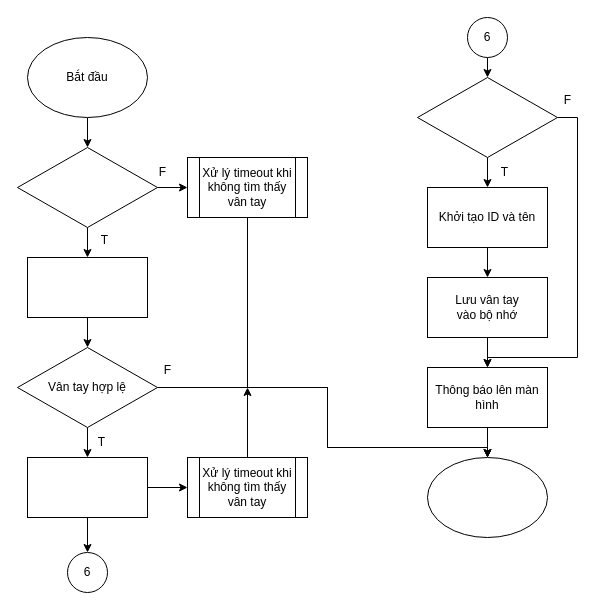
Image size: 603x610. Some labels were removed from this diagram. Here are the shapes that lost their labels. From the top down, the box of each, then its label:
(416, 76, 558, 158): Cả 2 vân tay trùng khớp
(16, 146, 158, 228): Tìm thấy vân tay
(26, 256, 148, 318): Lấy mẫu vân tay
(26, 456, 148, 518): Lấy mẫu vân tay lần 2
(426, 456, 548, 538): Kết thúc
